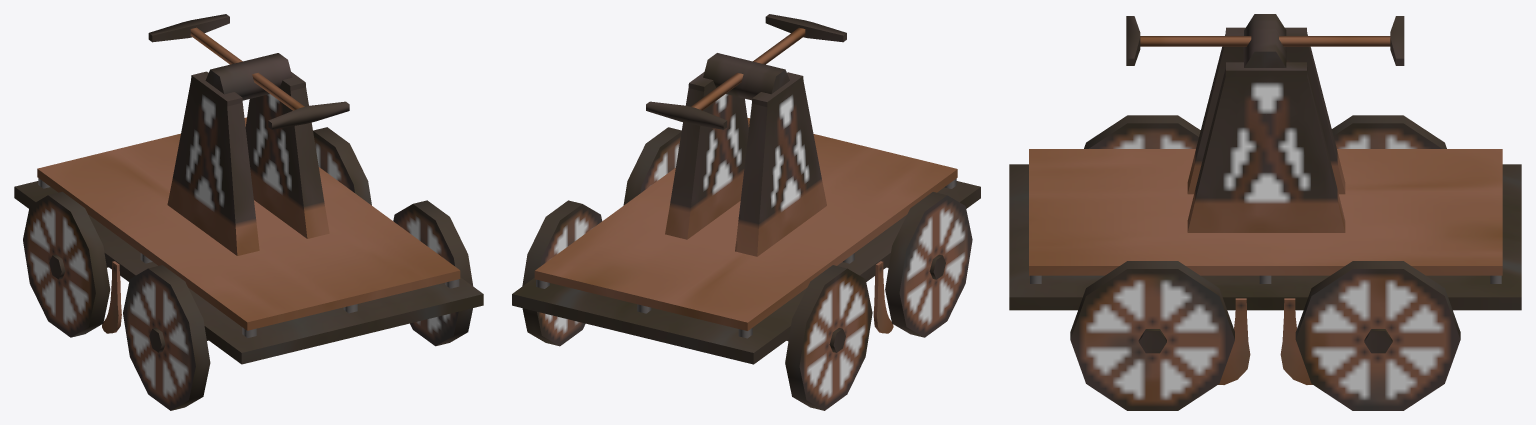
The model's file is Handcar.fbx.
3 renders of one model, left to right at view 1: azimuth 30°, elevation 25°; view 2: azimuth 150°, elevation 25°; view 3: azimuth 270°, elevation 25°, orthographic. The views are drawn at different scales.
Parts seen in each view (by area): view 1: Base, BarSupport, BackWheels, FrontWheels, Bar, Thingy, Supports; view 2: Base, BarSupport, FrontWheels, BackWheels, Bar, Thingy, Supports; view 3: Base, BarSupport, BackWheels, FrontWheels, Bar, Thingy.
Boxes of the visible parts, box(x1,y1,x2,y2) form: Base: box(14, 117, 483, 364); BarSupport: box(167, 71, 329, 255); BackWheels: box(123, 200, 472, 410); FrontWheels: box(23, 127, 371, 337); Bar: box(148, 14, 349, 129); Thingy: box(102, 261, 121, 333); Supports: box(38, 178, 459, 337); Base: box(512, 118, 980, 364); BarSupport: box(665, 72, 826, 256); FrontWheels: box(522, 200, 872, 410); BackWheels: box(623, 127, 972, 337); Bar: box(646, 14, 846, 129); Thingy: box(873, 261, 893, 333); Supports: box(536, 178, 956, 338); Base: box(1009, 149, 1521, 310); BarSupport: box(1187, 27, 1345, 232); BackWheels: box(1070, 115, 1234, 410); FrontWheels: box(1295, 115, 1460, 410); Bar: box(1126, 14, 1404, 67); Thingy: box(1218, 298, 1312, 384).
Bounding box in the file's own units: 203 × 278 × 180.
